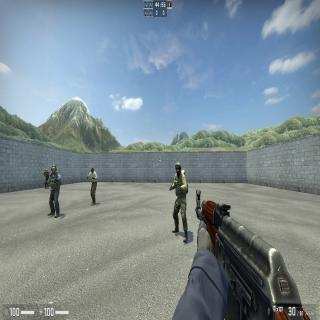CT-Body: (172, 163, 187, 240), (48, 164, 60, 218)
CT-Head: (175, 163, 181, 176), (52, 164, 56, 173)
T-Body: (88, 168, 97, 205), (45, 168, 50, 188)
T-Head: (91, 167, 94, 174), (46, 168, 48, 173)
